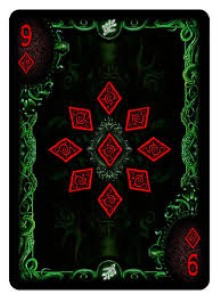NineOfDiamonds: (5, 4, 213, 290)
